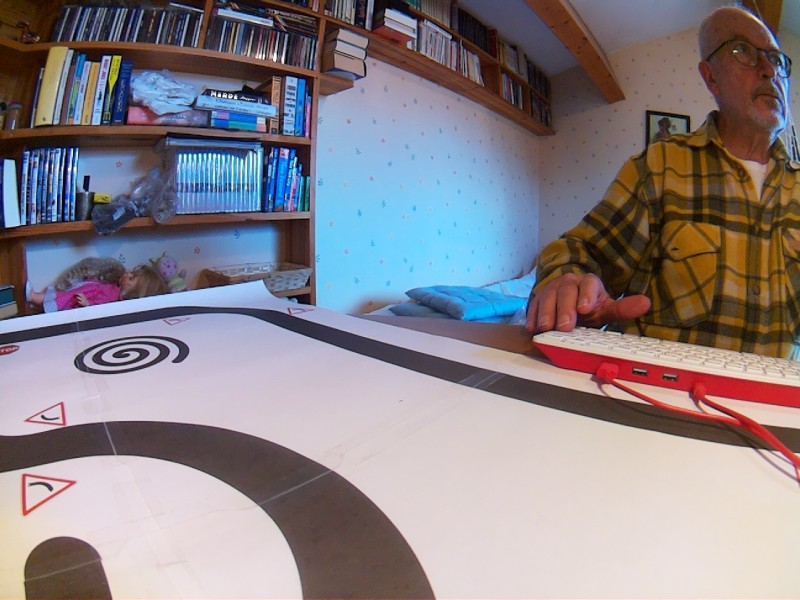leftTurn: (234, 490, 442, 600)
nest: (69, 335, 200, 382)
